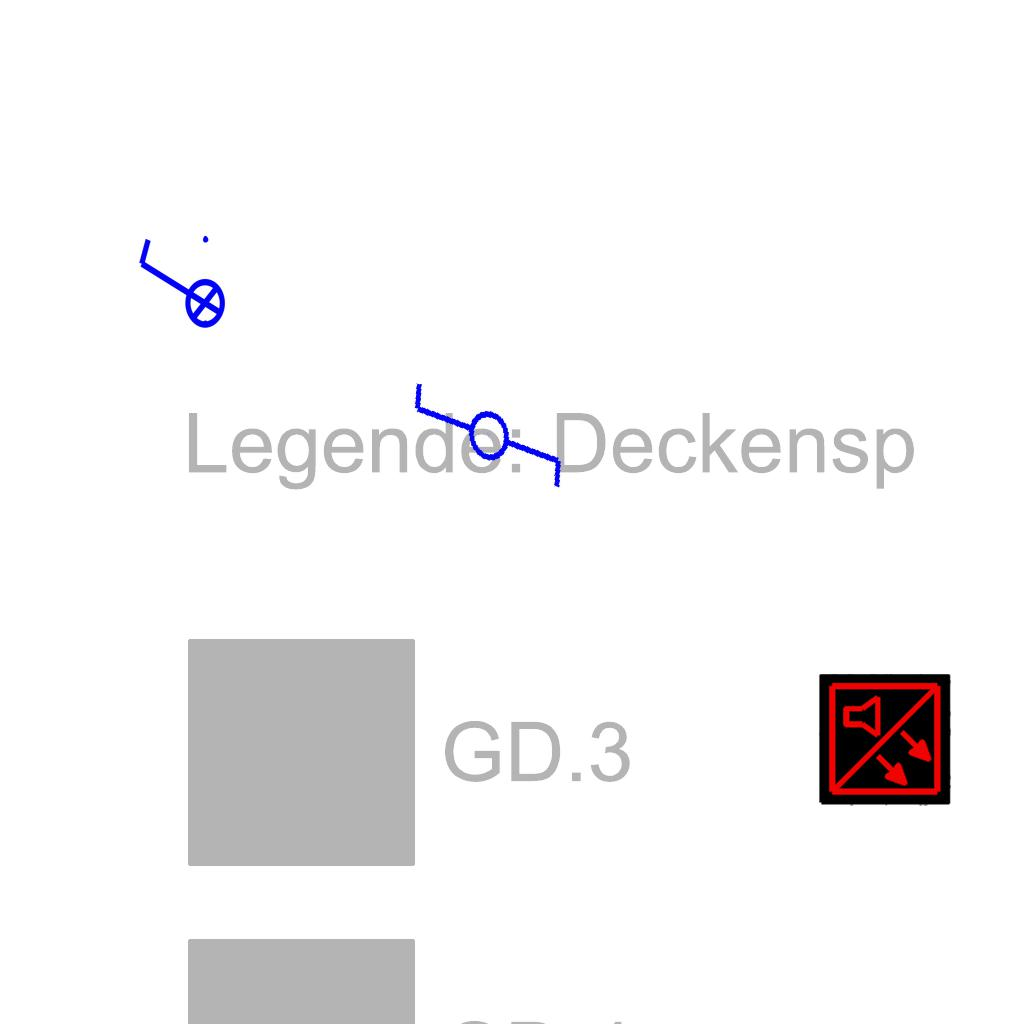Ausschalter_beleuchtet: (131, 230, 227, 342)
OKW_Multisensormelder_(Kombination_optischer_Rauch-Kahlenmonoxid_Waerme-Melder): (819, 674, 951, 806)
Wechselschalter: (401, 352, 576, 536)
